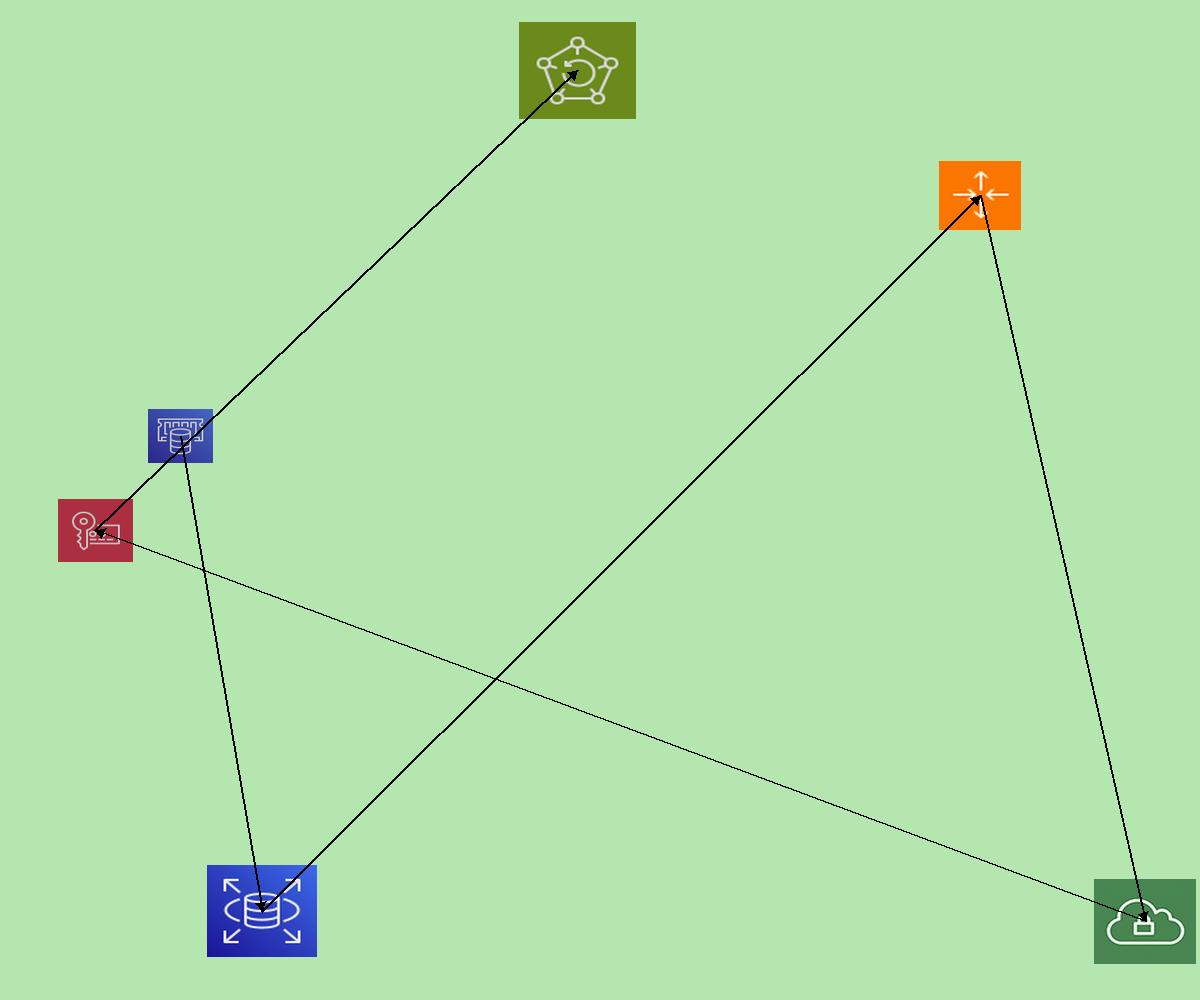AWS-Backup: (519, 22, 636, 119)
AWS-ElastiCache: (148, 409, 213, 463)
AWS-Key-Management-Service: (58, 499, 133, 562)
AWS-Private_vpc: (1094, 879, 1196, 964)
AWS-RDS: (207, 865, 317, 957)
AWS-Scaling-group: (939, 161, 1021, 230)
